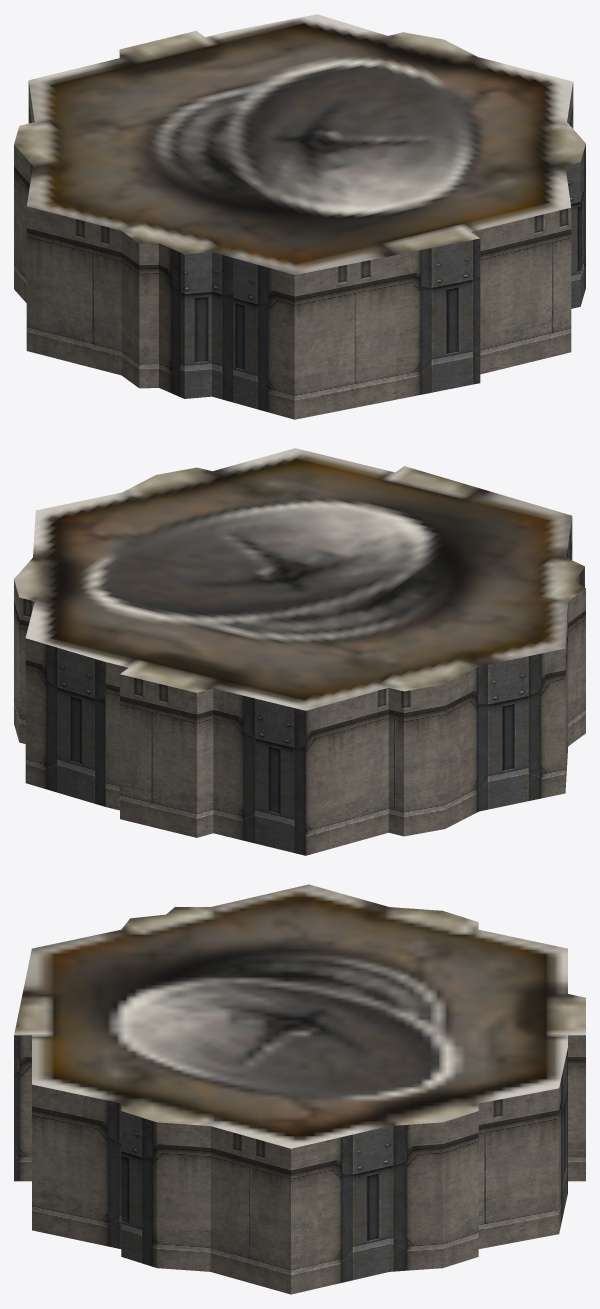
Rendered from building_single_heavy_1.glb.
3 renders of one model, top to bottom at view 1: azimuth 30°, elevation 25°; view 2: azimuth 150°, elevation 25°; view 3: azimuth 270°, elevation 25°, orthographic.
Parts seen in each view (by area): view 1: buildings/saxarba/building_single/building_single_heavy_1; view 2: buildings/saxarba/building_single/building_single_heavy_1; view 3: buildings/saxarba/building_single/building_single_heavy_1.
Boxes of the visible parts, <box> form: buildings/saxarba/building_single/building_single_heavy_1: <box>14,14,585,419</box>; buildings/saxarba/building_single/building_single_heavy_1: <box>14,448,585,855</box>; buildings/saxarba/building_single/building_single_heavy_1: <box>14,884,585,1294</box>.
Bounding box in the file's own units: 70 × 18 × 64.
